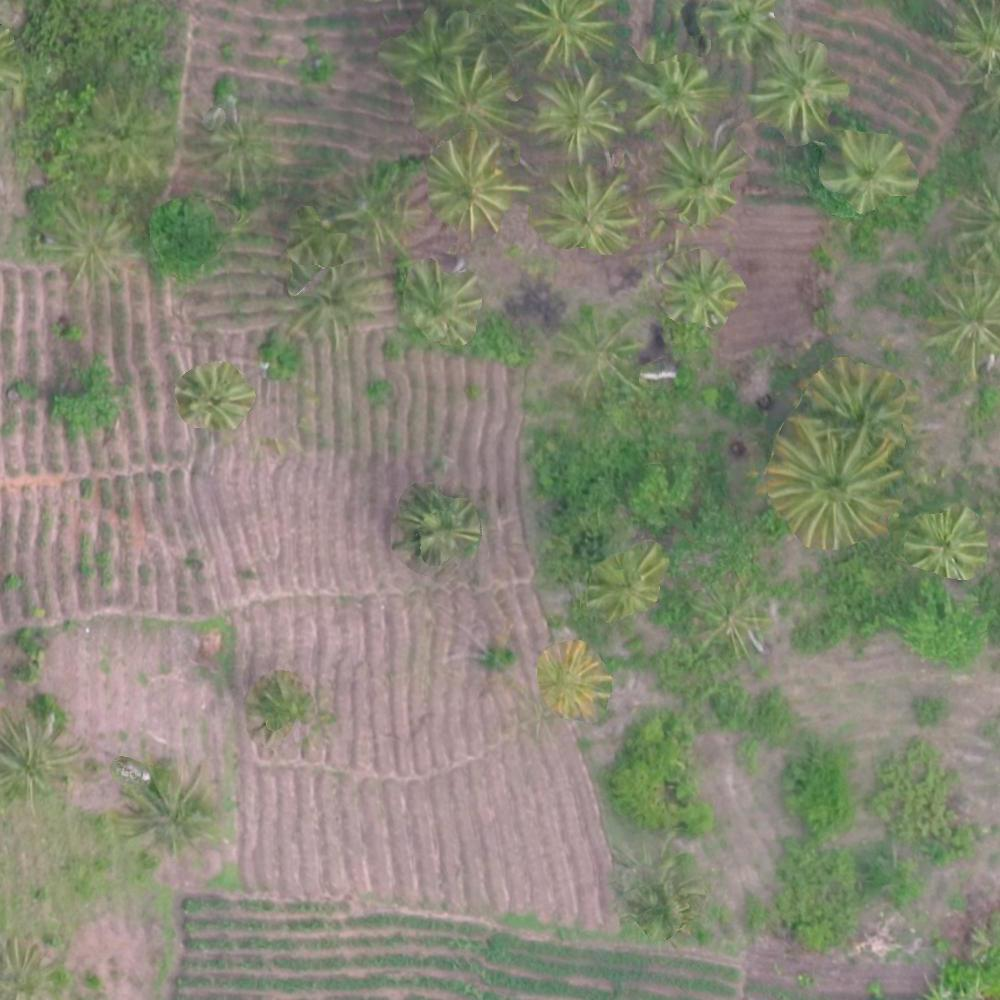Palm: (768, 423, 898, 544), (807, 358, 913, 446), (420, 139, 514, 236), (535, 167, 632, 256), (751, 42, 846, 131), (419, 52, 513, 141), (1, 719, 81, 814), (531, 69, 620, 154), (122, 760, 208, 847), (820, 130, 916, 207), (648, 135, 738, 217), (658, 248, 745, 332), (514, 1, 614, 74), (49, 200, 132, 282), (396, 483, 477, 563), (402, 258, 481, 340), (629, 49, 713, 126), (930, 275, 1000, 367), (587, 547, 668, 618), (538, 644, 610, 721), (911, 507, 986, 577), (178, 361, 250, 427), (700, 1, 779, 58)
